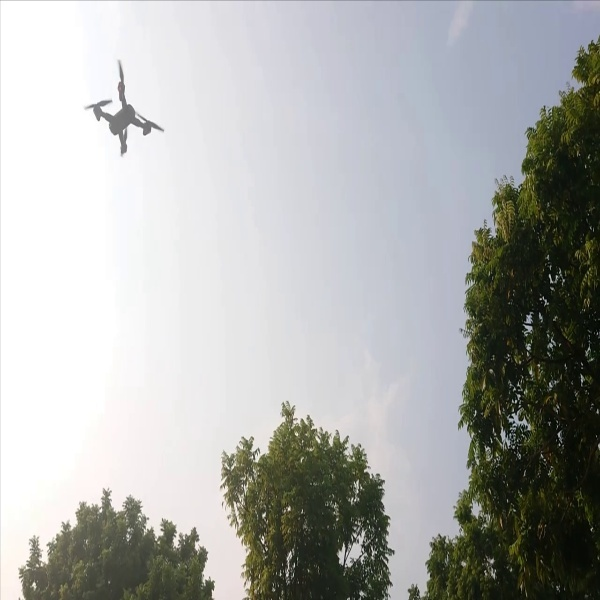drone: (77, 59, 169, 156)
